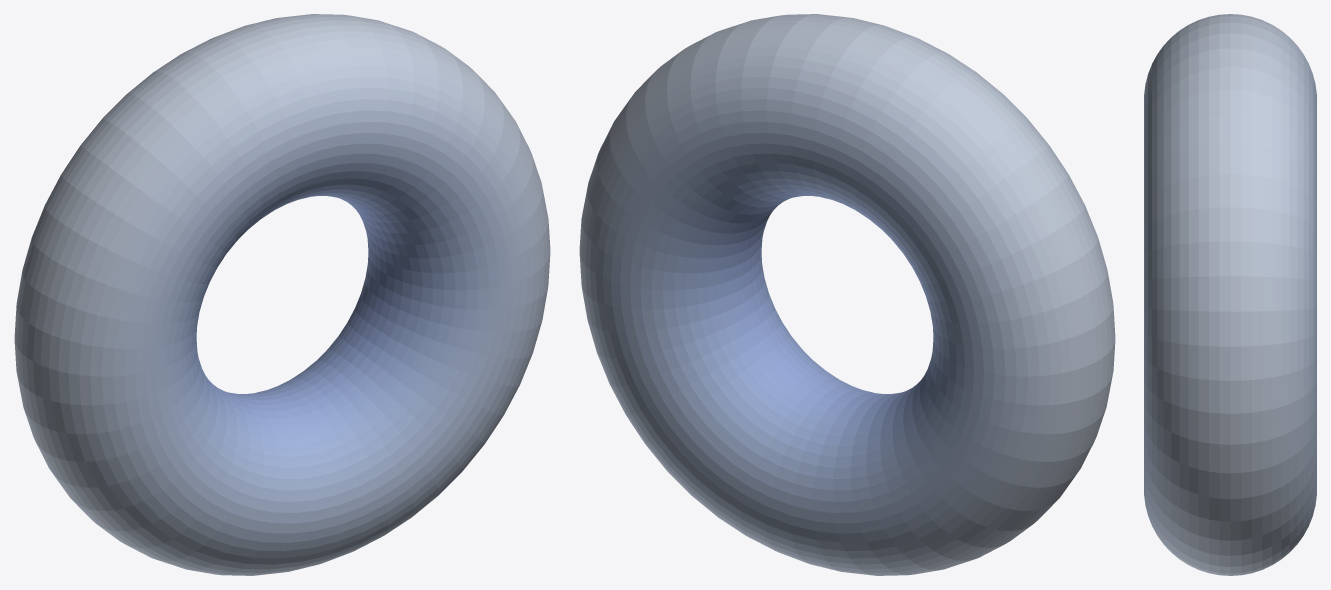
The picture shows the model from 3 angles, left to right: view 1: azimuth 30°, elevation 25°; view 2: azimuth 150°, elevation 25°; view 3: azimuth 270°, elevation 25°; orthographic projection. The views are drawn at different scales.
Visible parts, largest first — view 1: world; view 2: world; view 3: world.
Boxes of the visible parts, left/top/right/bottom form: world: left=14, top=14, right=550, bottom=575; world: left=579, top=14, right=1115, bottom=575; world: left=1144, top=14, right=1316, bottom=575.
Size of the model in its own units: 21.2 by 21.16 by 6.52.
